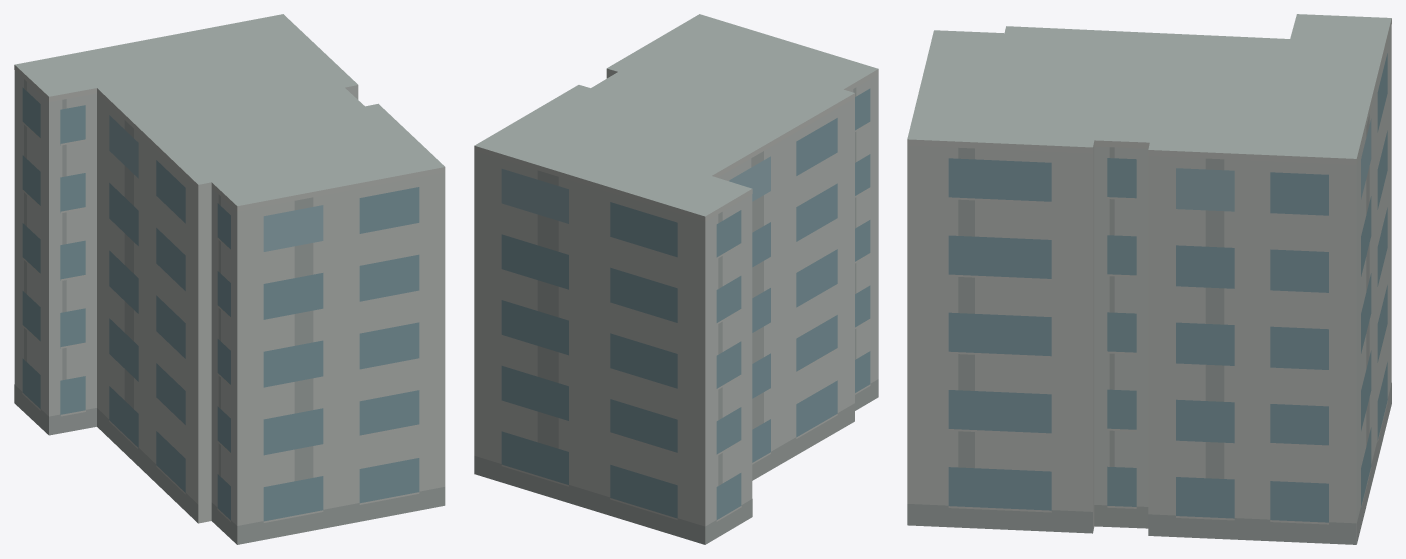
The model's file is survey-upis-32679675.glb.
The picture shows the model from 3 angles, left to right: view 1: azimuth 30°, elevation 25°; view 2: azimuth 150°, elevation 25°; view 3: azimuth 270°, elevation 25°; orthographic projection. The views are drawn at different scales.
Parts seen in each view (by area): view 1: survey-upis-32679675.tmp; view 2: survey-upis-32679675.tmp; view 3: survey-upis-32679675.tmp.
Boxes of the visible parts, left/top/right/bottom form: survey-upis-32679675.tmp: left=14, top=14, right=445, bottom=544; survey-upis-32679675.tmp: left=474, top=14, right=878, bottom=544; survey-upis-32679675.tmp: left=907, top=14, right=1391, bottom=544.
Bounding box in the file's own units: 12.29 × 15.25 × 17.36.
